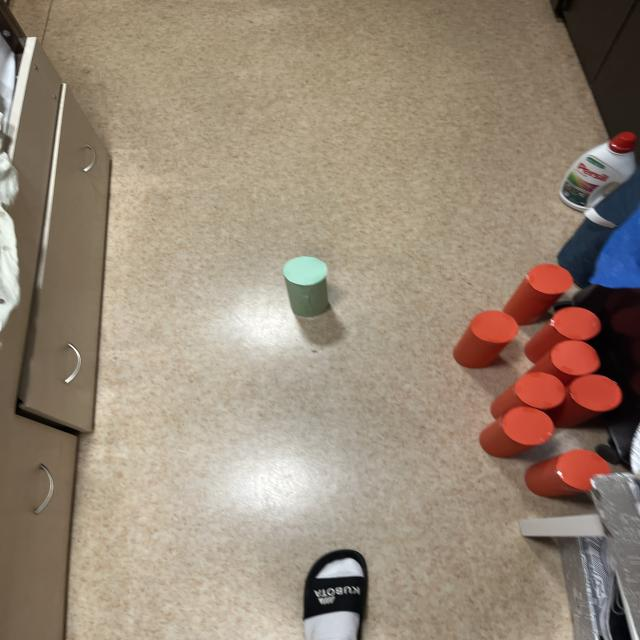meta: (283, 257, 329, 317)
